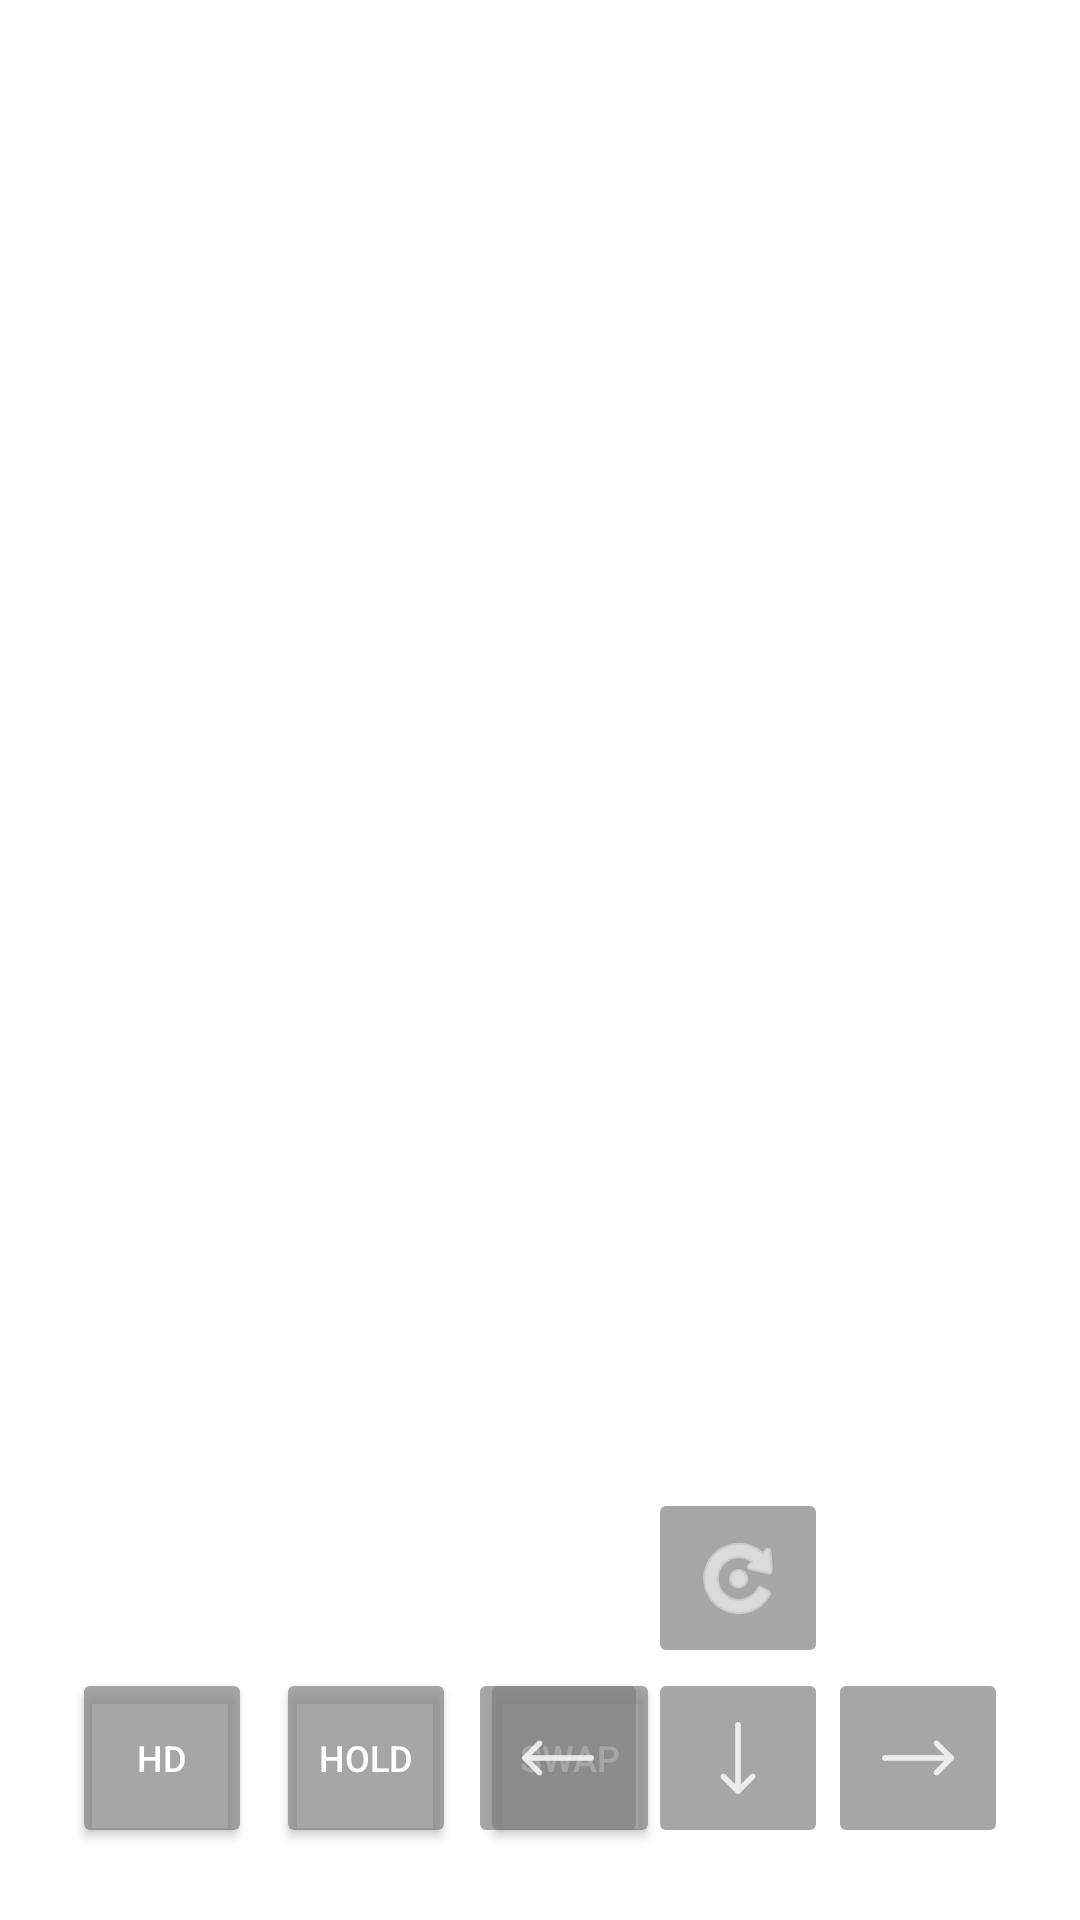

Icon bounding boxes for this 1080w x 1920h phone screenshot, format [x1,y1,x2,y2]:
down arrow: [660,1686,816,1830]
right arrow: [840,1686,996,1830]
rotate: [660,1506,816,1650]
